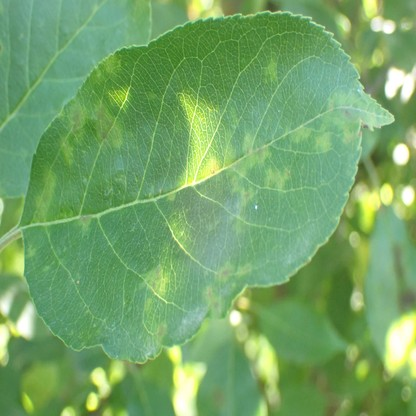powdery_mildew: (179, 309, 204, 336), (142, 335, 159, 355)
scab: (320, 91, 394, 145), (240, 133, 271, 174), (95, 104, 122, 147), (34, 170, 55, 223), (68, 102, 85, 144), (217, 261, 252, 281), (264, 166, 290, 189), (140, 268, 162, 293), (283, 125, 309, 142), (204, 287, 219, 315), (199, 158, 218, 178), (60, 139, 73, 163), (238, 188, 255, 206), (265, 59, 278, 82), (317, 133, 332, 150), (231, 214, 242, 232), (229, 176, 240, 193), (78, 215, 91, 229), (144, 298, 153, 314), (27, 244, 36, 259), (146, 90, 156, 101), (157, 322, 164, 336), (168, 191, 176, 201)
